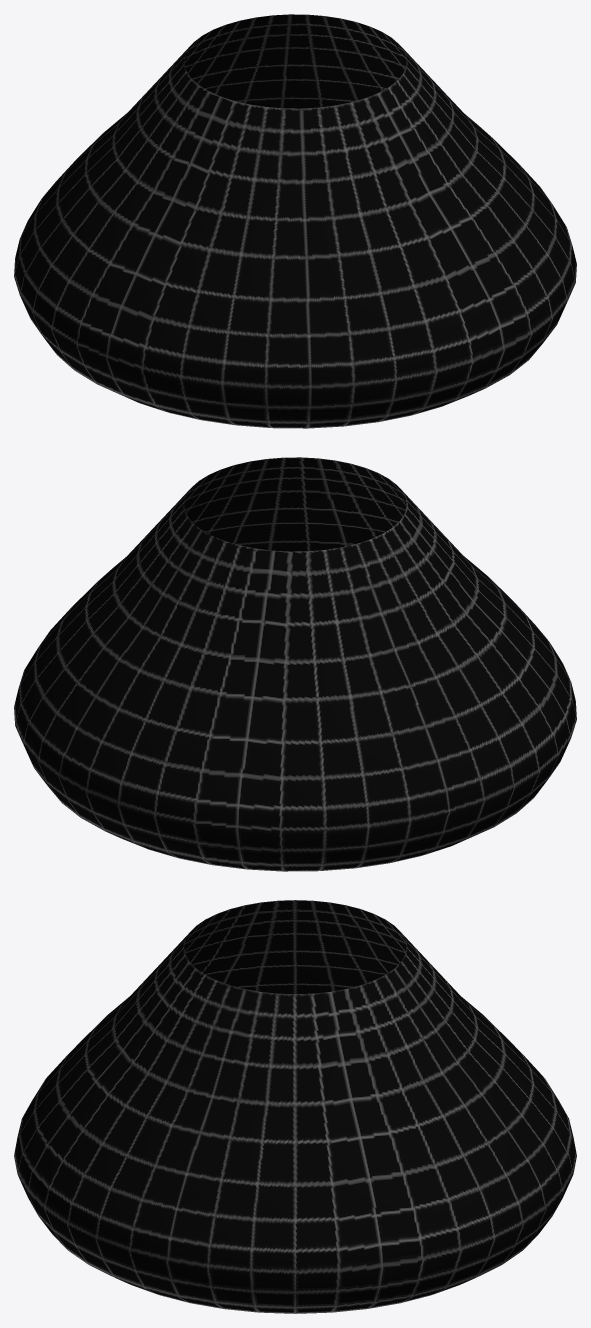
The model's file is m_arena_startingroom.fbx.
3 views of the same model, one above another, from view 1: azimuth 30°, elevation 25°; view 2: azimuth 150°, elevation 25°; view 3: azimuth 270°, elevation 25° (orthographic).
Visible parts, largest first — view 1: pCylinder66; view 2: pCylinder66; view 3: pCylinder66.
Boxes of the visible parts, x1,y1,x2,y2 form: pCylinder66: [14, 14, 576, 428]; pCylinder66: [14, 457, 576, 871]; pCylinder66: [14, 900, 576, 1313].
Size of the model in its own units: 11.1 by 6.53 by 11.1.
Materials: 1 (1 with a texture image).
